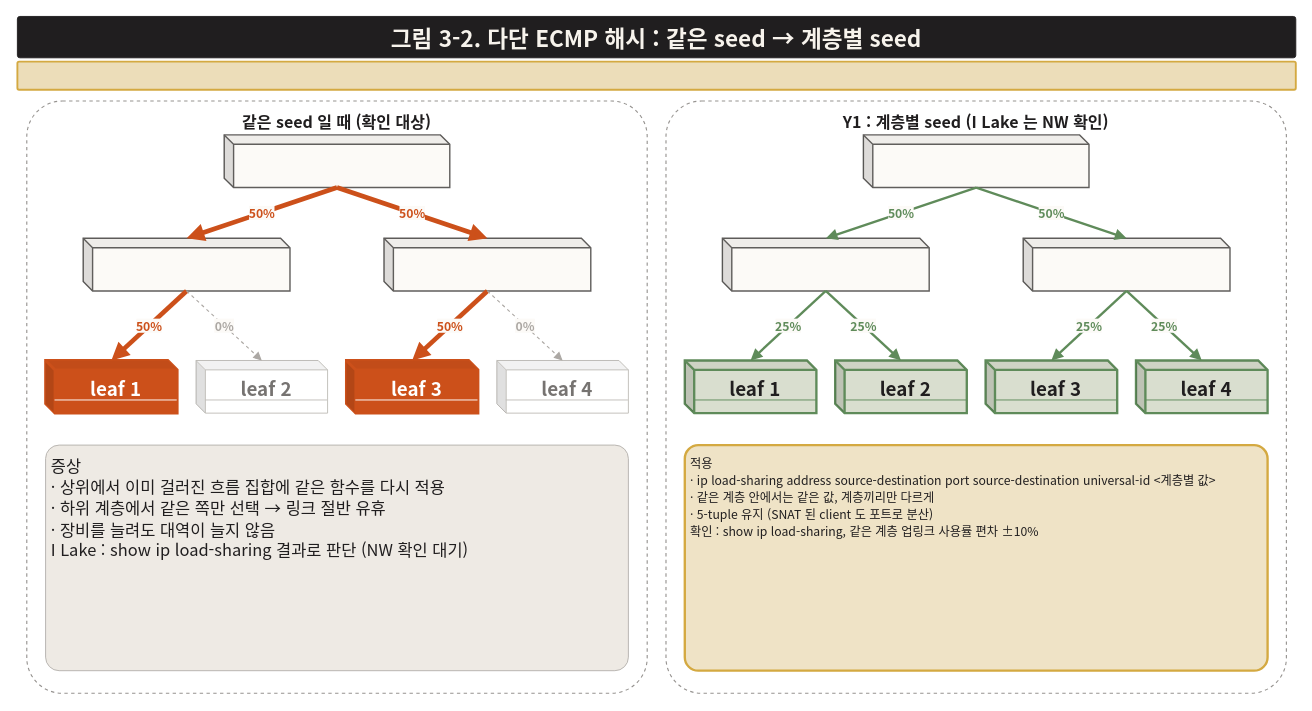
The diagram is 1312 pixels wide and 711 high, and some of its shapes have lost their labels. The shapes that lost their labels are listed below. From the top down, each one's centre as x and y in pixels, then its label:
At point 656,75: "상위와 하위가 같은 해시를 쓰면 하위 계층에서 한쪽만 사용 (polarization). 계층마다 seed 를 다르게".
At point 336,161: "Super Spine seed 기본".
At point 975,161: "Super Spine seed 101".
At point 186,264: "Spine 1 seed 기본".
At point 487,264: "Spine 2 seed 기본".
At point 825,264: "Spine 1 seed 201".
At point 1126,264: "Spine 2 seed 201".
